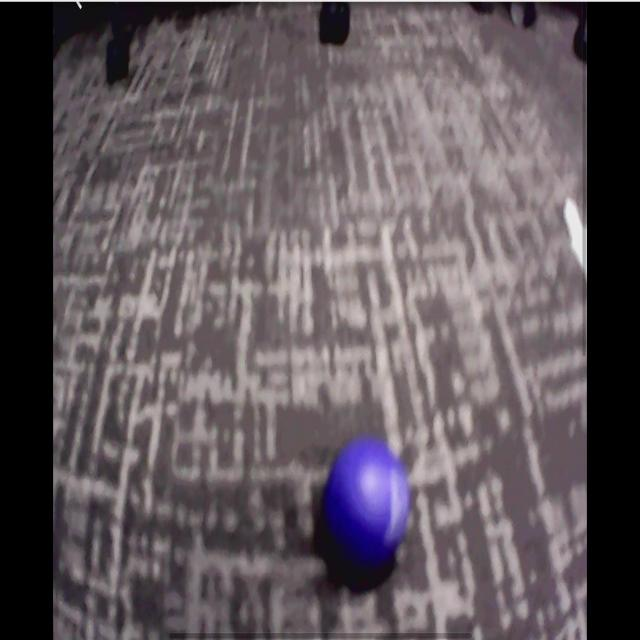ball: (327, 439, 410, 564)
